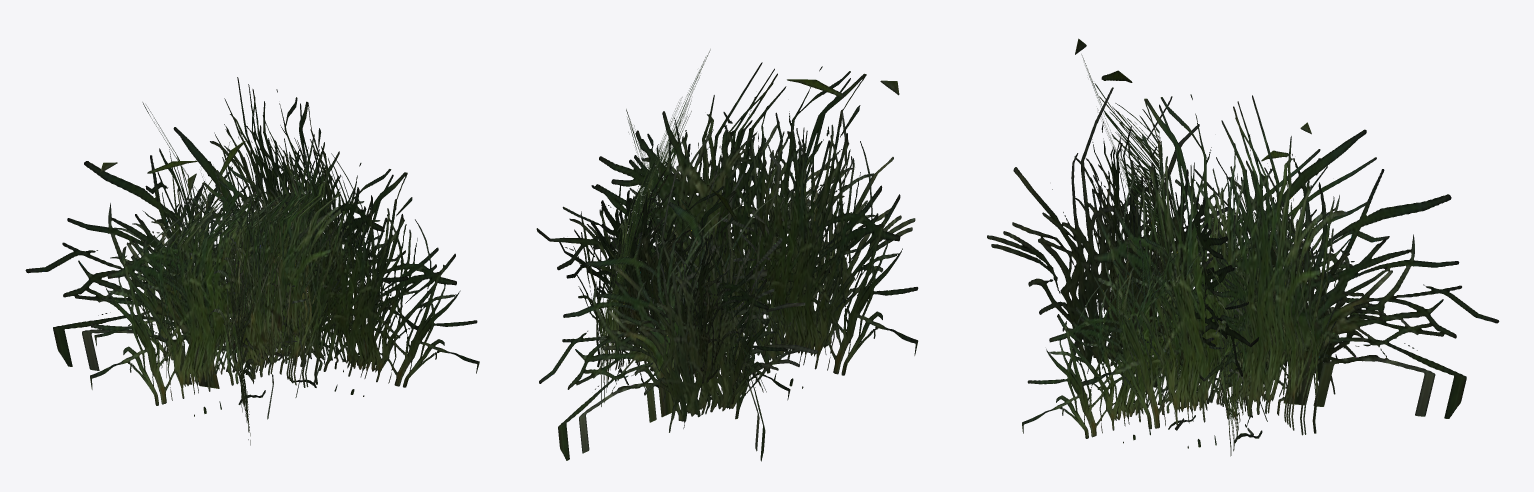
Rendered from forest_grass_001_a_LOD1.gltf.
3 renders of one model, left to right at view 1: azimuth 30°, elevation 25°; view 2: azimuth 150°, elevation 25°; view 3: azimuth 270°, elevation 25°, orthographic. The views are drawn at different scales.
Parts seen in each view (by area): view 1: forest_grass_001_a_LOD1; view 2: forest_grass_001_a_LOD1; view 3: forest_grass_001_a_LOD1.
Boxes of the visible parts, <box> form: forest_grass_001_a_LOD1: <box>25,77,479,445</box>; forest_grass_001_a_LOD1: <box>536,49,918,461</box>; forest_grass_001_a_LOD1: <box>987,38,1499,456</box>.
Size of the model in its own units: 1.05 by 0.8225 by 1.26.
Materials: 1 (1 with a texture image).
